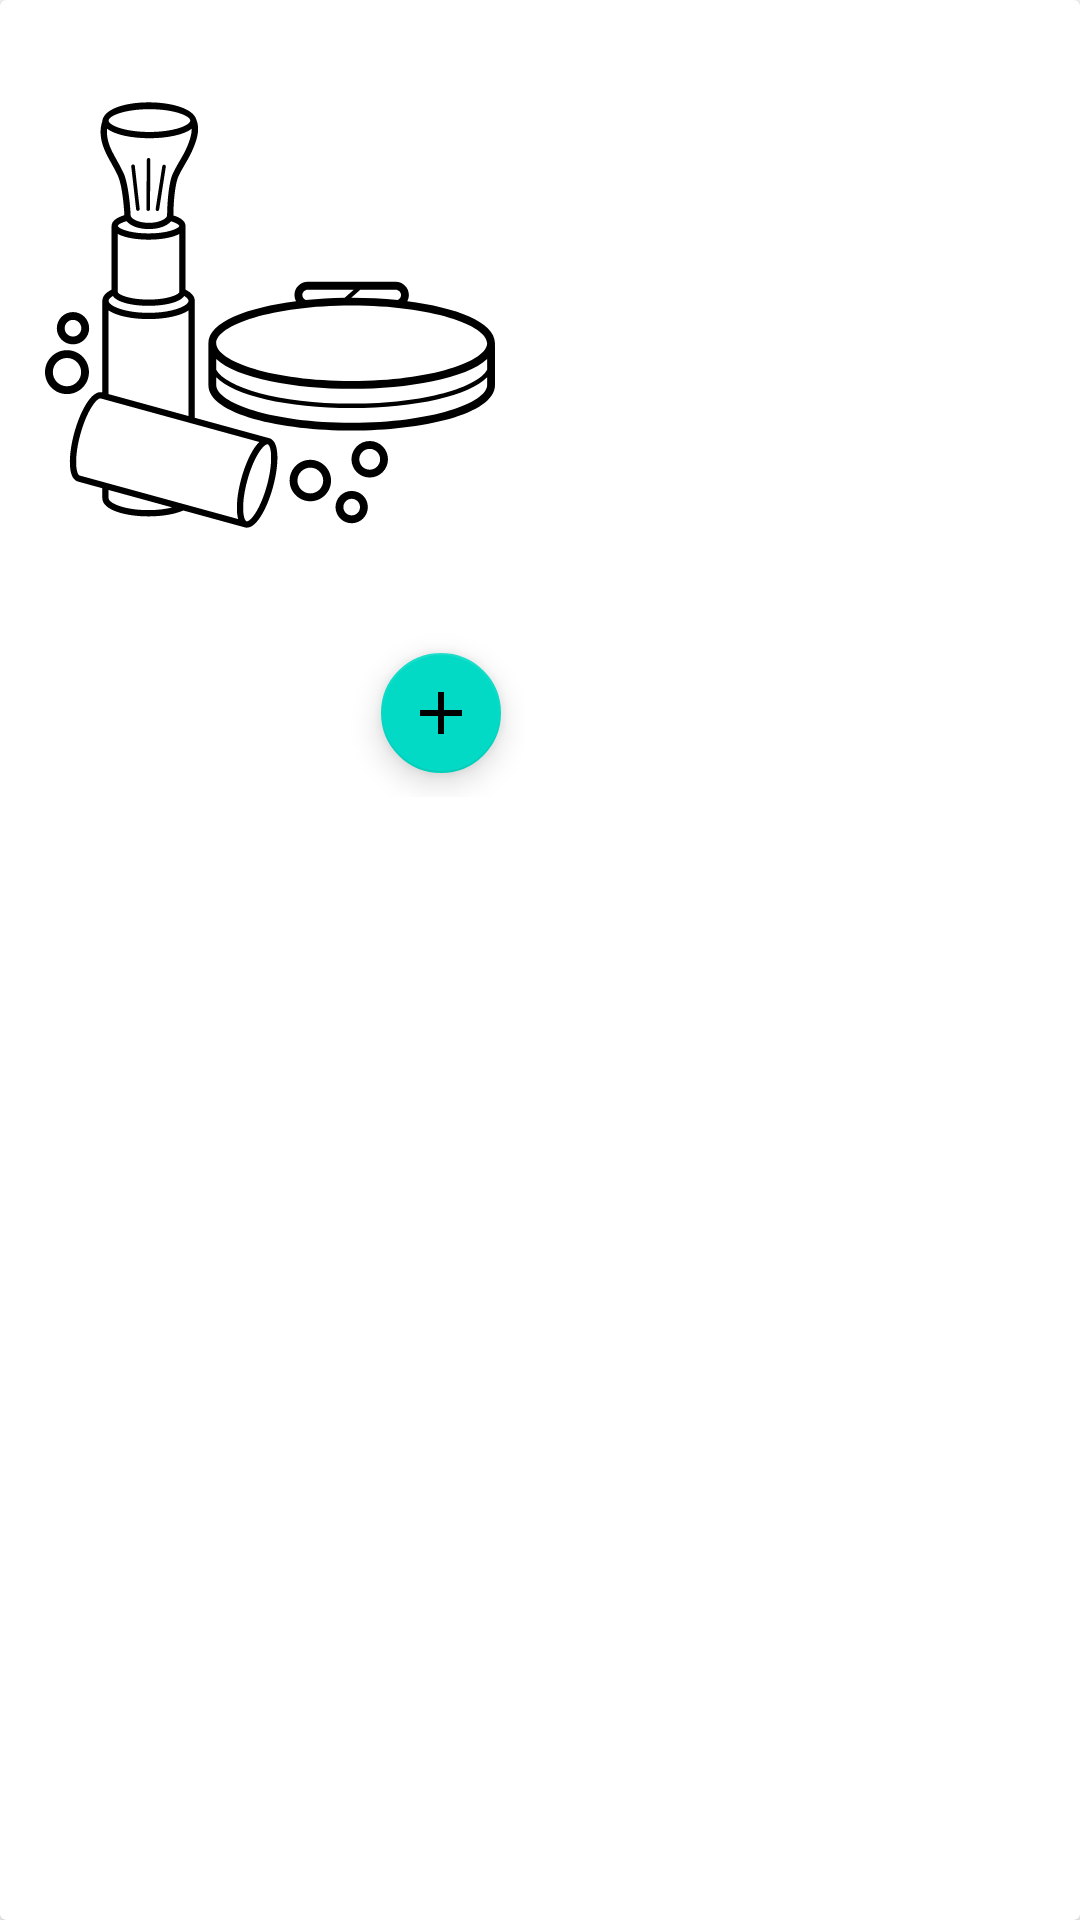

Named icons in this screenshot (1080w x 1920h) and their centers, (x=x, y=y):
add: (x=441, y=715)
